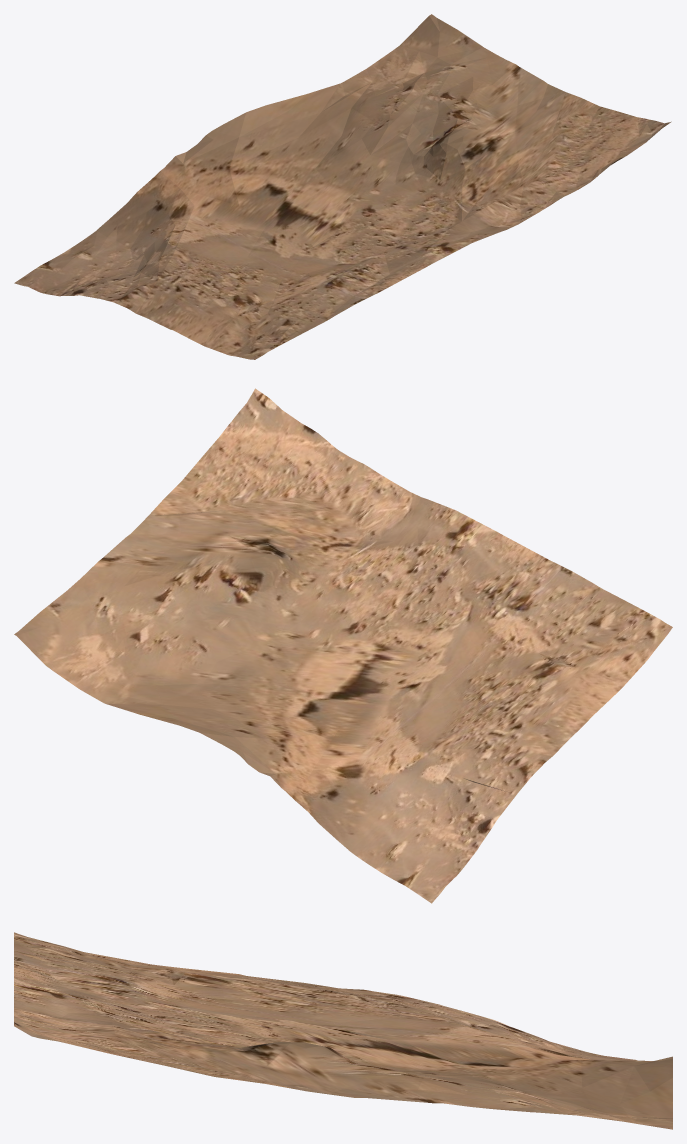
3 views of the same model, one above another, from view 1: azimuth 30°, elevation 25°; view 2: azimuth 150°, elevation 25°; view 3: azimuth 270°, elevation 25° (orthographic). The views are drawn at different scales.
Size of the model in its own units: 1.04 by 0.5655 by 1.04.
2 materials, 2 textured.
